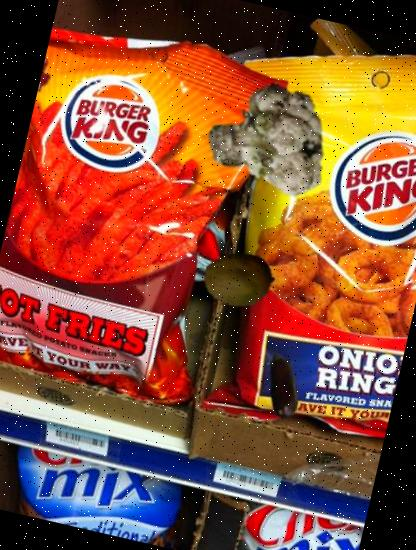Cauliflower: (193, 70, 338, 214)
Eggplant: (240, 342, 324, 427)
Papaya: (197, 237, 280, 320)
